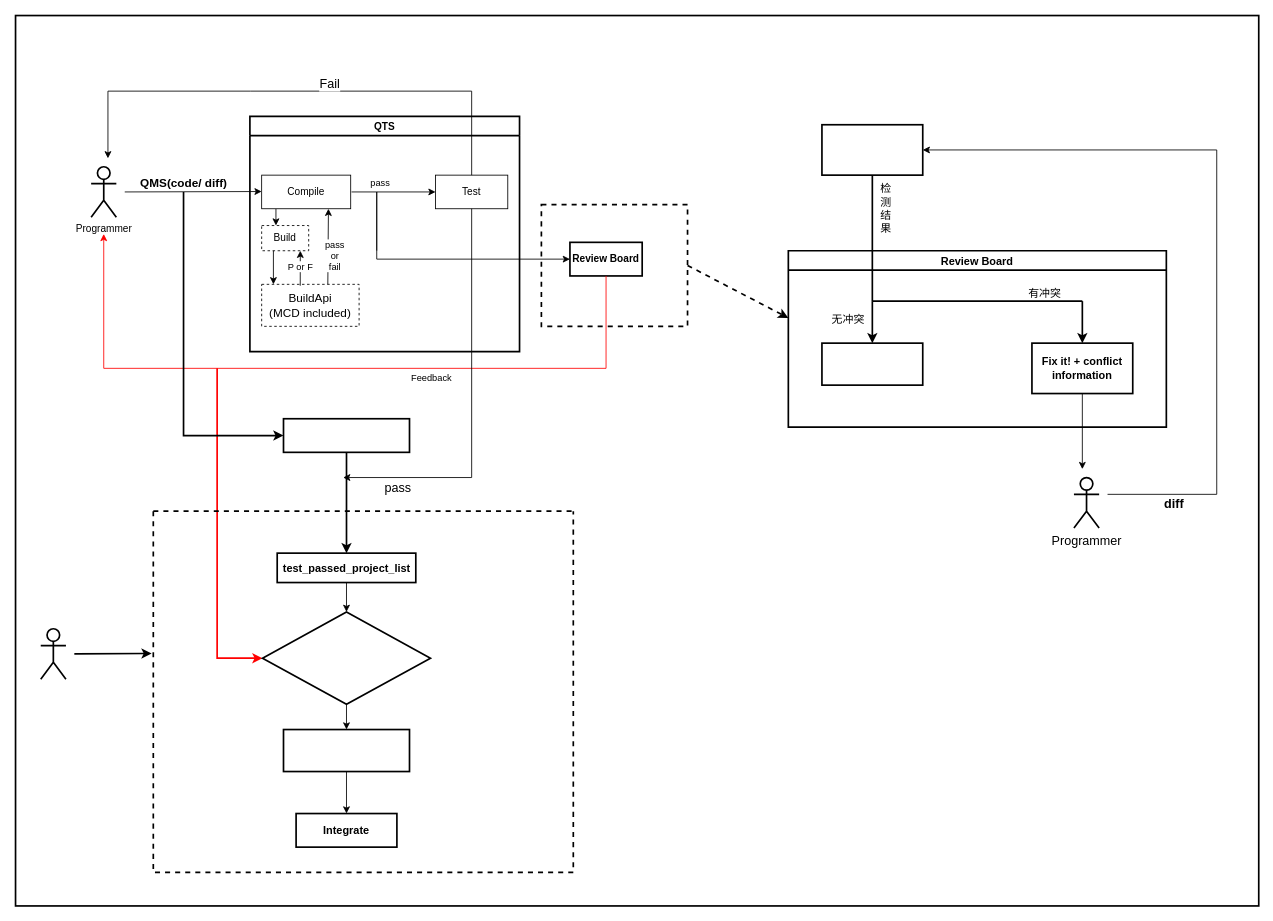
This 1273x921 diagram has some shape labels left out. Each missing label, with the centre of its shape:
all_project_list: [346,435]
If the projects are labeled " ship it! " by all appointed reviewers: [346,658]
Integrator: [52,653]
Qualified_project_list: [346,750]
Ship it!: [872,364]
冲突检测工具: [872,149]
